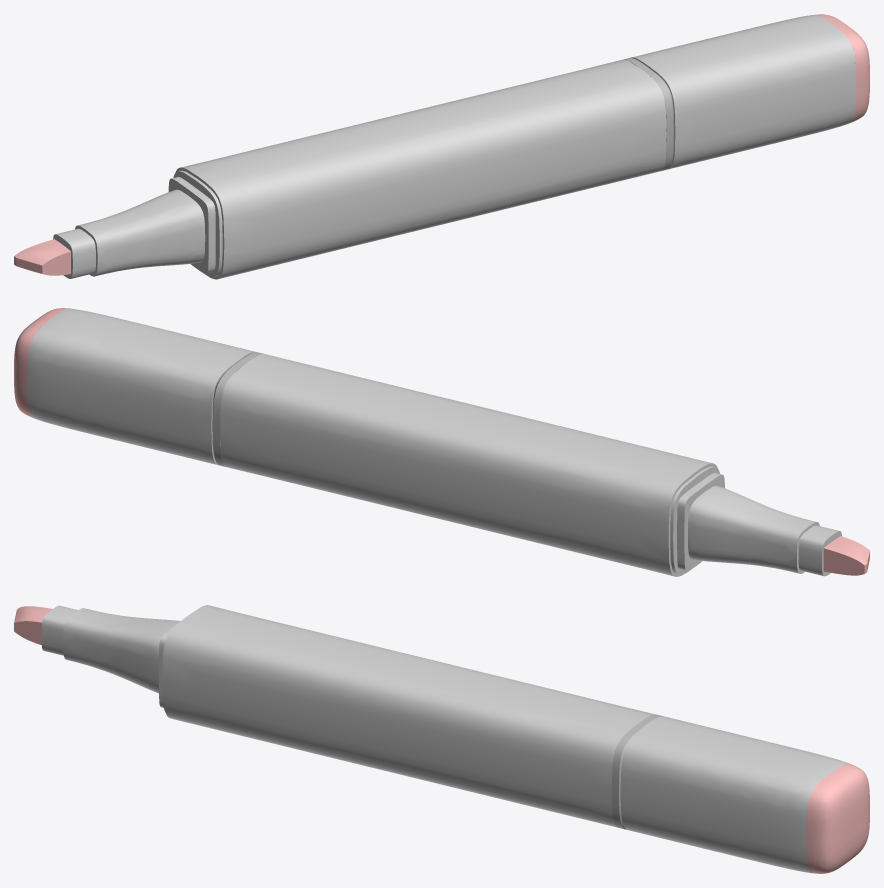
File: 275_イラストマーカー開2.glb
3 renders of one model, top to bottom at view 1: azimuth 30°, elevation 25°; view 2: azimuth 150°, elevation 25°; view 3: azimuth 330°, elevation 25°, orthographic.
Parts seen in each view (by area): view 1: Body, キャップ1; view 2: Body, キャップ1; view 3: Body, キャップ1.
Boxes of the visible parts, x1,y1,x2,y2 form: Body: (14, 58, 674, 279); キャップ1: (630, 14, 869, 169); Body: (212, 352, 869, 576); キャップ1: (14, 308, 256, 465); Body: (14, 605, 663, 829); キャップ1: (620, 716, 869, 873).
Size of the model in its own units: 0.1439 by 0.0154 by 0.0153.
